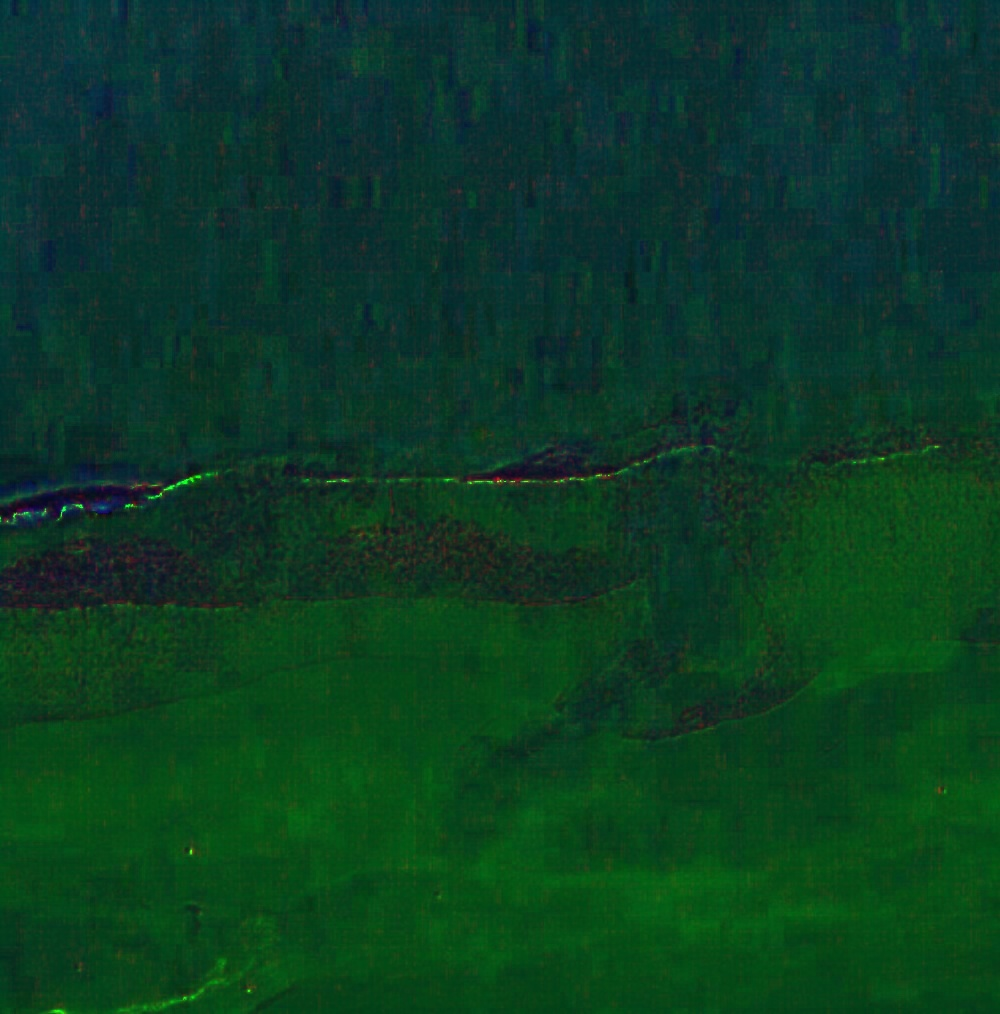rip_current: (578, 352, 742, 609)
